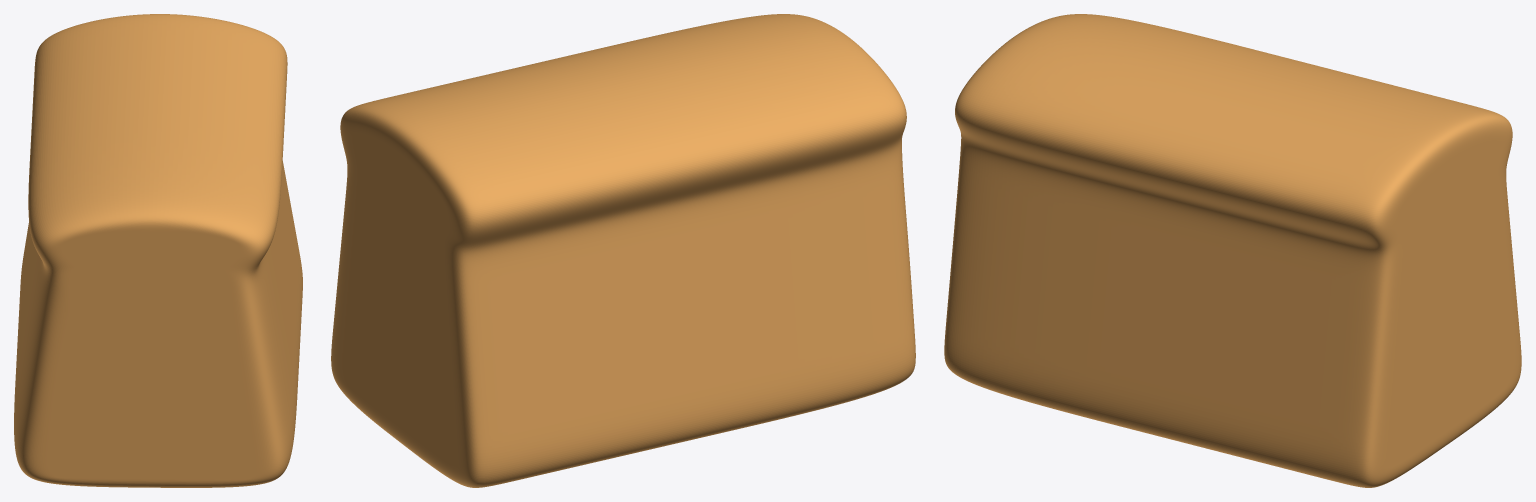
File: pan.fbx
The picture shows the model from 3 angles, left to right: view 1: azimuth 30°, elevation 25°; view 2: azimuth 150°, elevation 25°; view 3: azimuth 270°, elevation 25°; orthographic projection. The views are drawn at different scales.
Visible parts, largest first — view 1: Cube.105; view 2: Cube.105; view 3: Cube.105.
Boxes of the visible parts, <box> form: Cube.105: <box>14,14,302,487</box>; Cube.105: <box>331,14,915,487</box>; Cube.105: <box>944,14,1521,487</box>.
Bounding box in the file's own units: 123 × 85.21 × 141.
